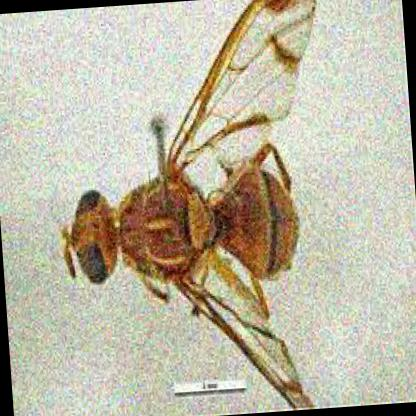fruit fly: (71, 0, 317, 404)
